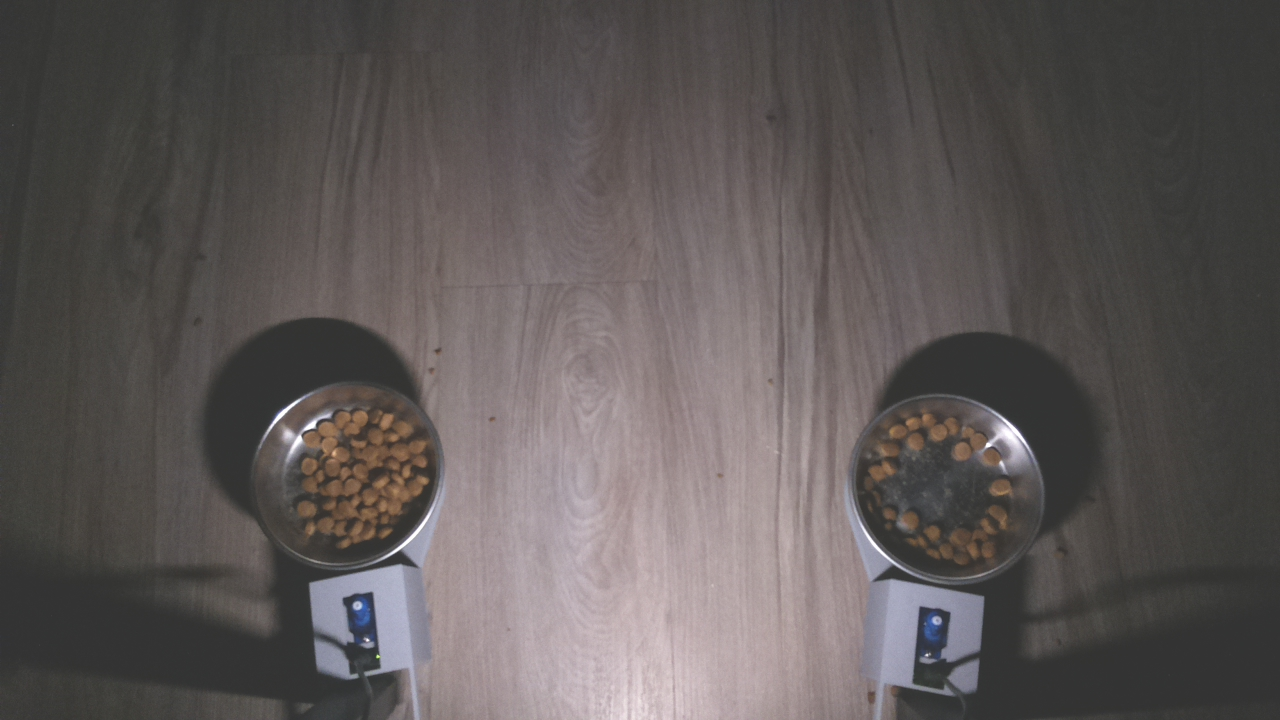open_bowl: (240, 372, 456, 575), (845, 389, 1045, 586)
